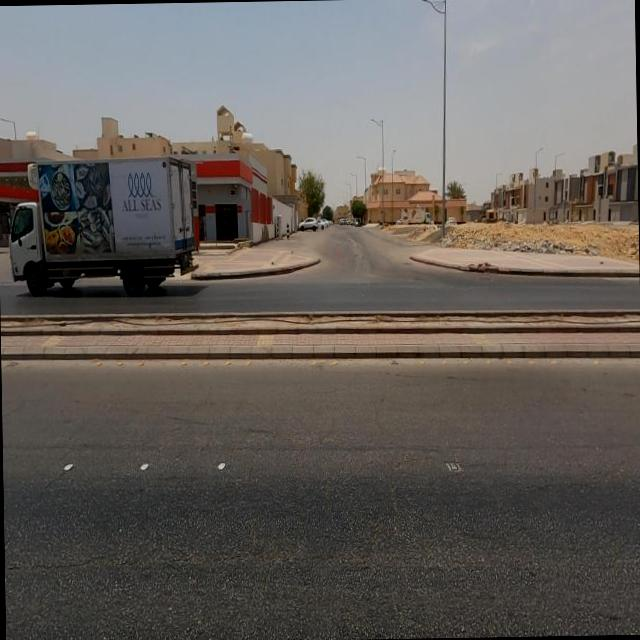debris: (495, 207, 539, 274), (521, 224, 577, 274), (568, 220, 613, 282)
